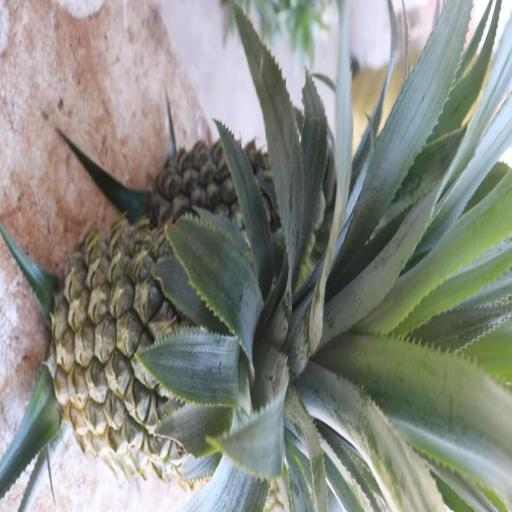------------------------------: (52, 212, 294, 470)
